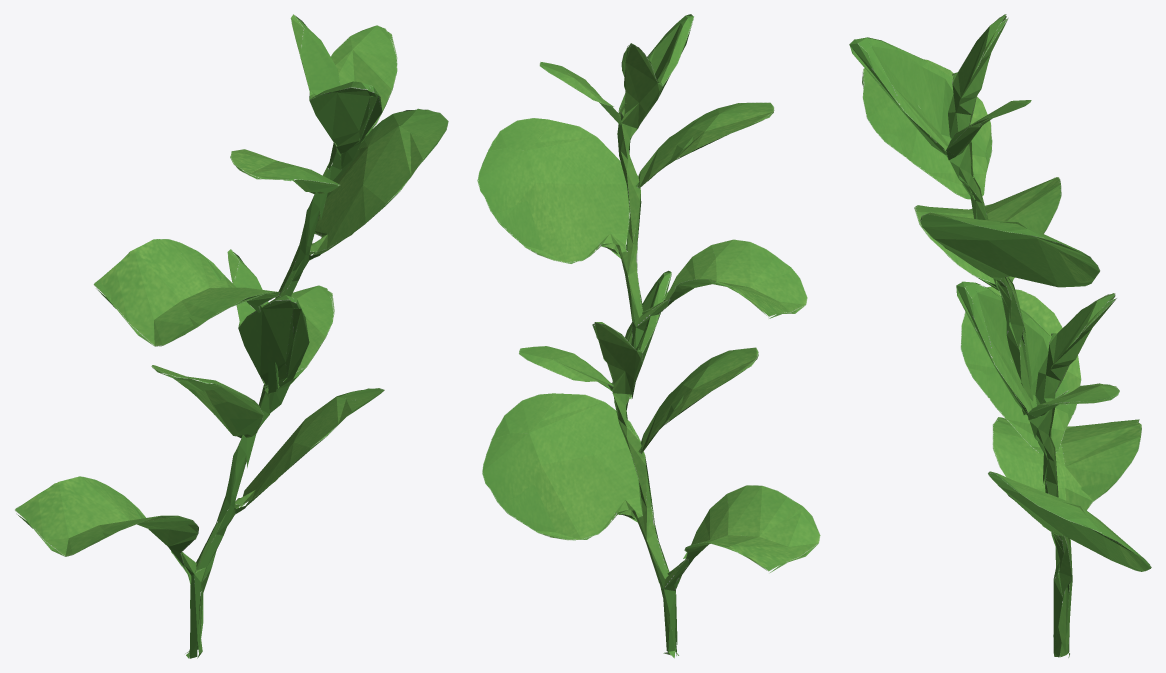
Rendered from Plant_5.glb.
The picture shows the model from 3 angles, left to right: view 1: azimuth 30°, elevation 25°; view 2: azimuth 150°, elevation 25°; view 3: azimuth 270°, elevation 25°; orthographic projection. The views are drawn at different scales.
Visible parts, largest first — view 1: plantphase4; view 2: plantphase4; view 3: plantphase4.
Part boxes in pixels (bbox=[...]): plantphase4: bbox=[14, 14, 448, 658]; plantphase4: bbox=[477, 14, 820, 658]; plantphase4: bbox=[849, 14, 1151, 657].
Bounding box in the file's own units: 0.0608 × 0.1027 × 0.0413.
2 materials, 2 textured.
